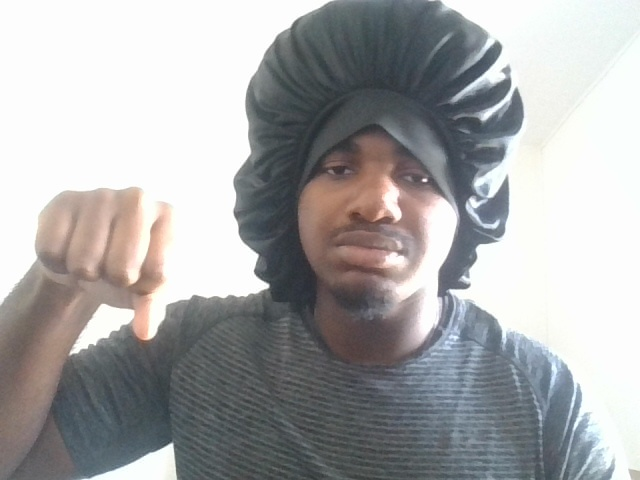Yes: (22, 152, 213, 363)
